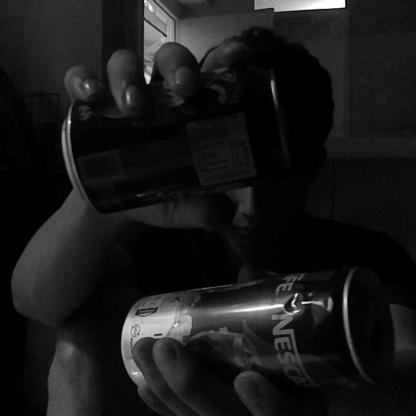alumunium_can: (56, 68, 300, 219), (119, 263, 397, 391)
